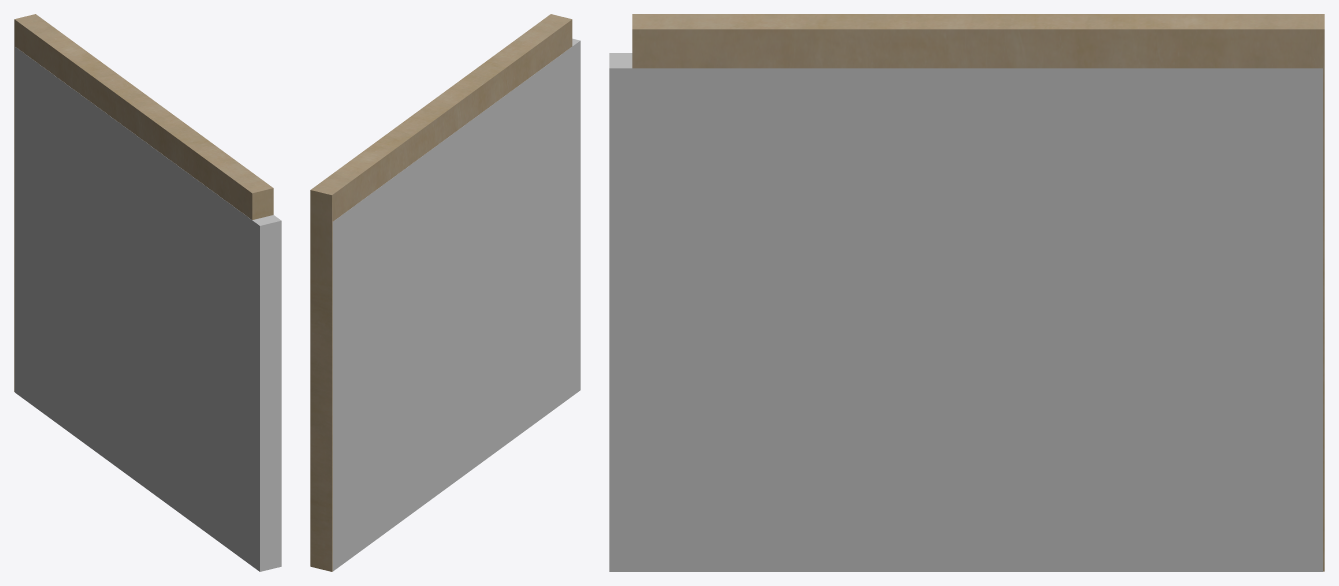
Rendered from SM_DG_InsideWallpaper01K.fbx.
3 renders of one model, left to right at view 1: azimuth 30°, elevation 25°; view 2: azimuth 150°, elevation 25°; view 3: azimuth 270°, elevation 25°, orthographic. The views are drawn at different scales.
Visible parts, largest first — view 1: SM_DG_InsideWallpaper01K_ConvexHulls, SM_DG_InsideWallpaper01K; view 2: SM_DG_InsideWallpaper01K_ConvexHulls, SM_DG_InsideWallpaper01K; view 3: SM_DG_InsideWallpaper01K_ConvexHulls, SM_DG_InsideWallpaper01K.
Boxes of the visible parts, bbox=[...] form: SM_DG_InsideWallpaper01K_ConvexHulls: bbox=[15, 47, 281, 571]; SM_DG_InsideWallpaper01K: bbox=[14, 14, 273, 391]; SM_DG_InsideWallpaper01K_ConvexHulls: bbox=[332, 38, 580, 571]; SM_DG_InsideWallpaper01K: bbox=[310, 14, 572, 571]; SM_DG_InsideWallpaper01K_ConvexHulls: bbox=[609, 53, 1322, 571]; SM_DG_InsideWallpaper01K: bbox=[632, 14, 1324, 571].
Bounding box in the file's own units: 17.64 × 347 × 291.
